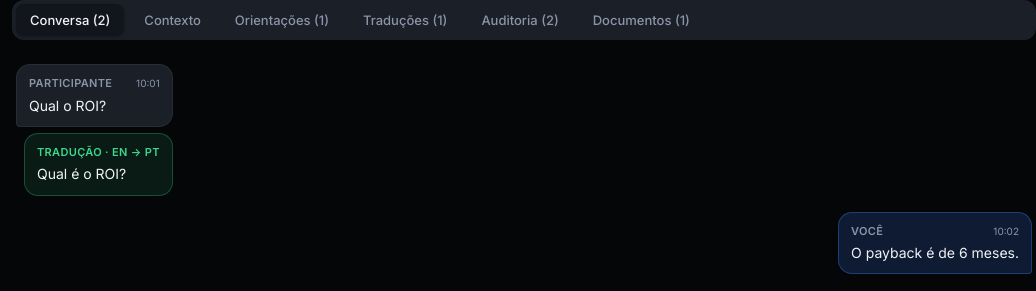
SessionDetailTabs › switches to guidance tab
Click the tab with test id "session-tab-guidance" at (282, 20), box [221,4,343,36]
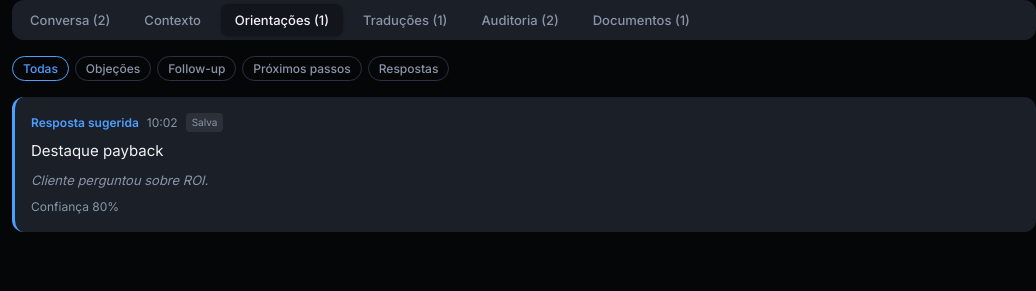
Check: the element with test id "history-guidance-tab" is shown, box [12,56,1035,232]
Check: the text "Destaque payback" is shown, box [31,141,164,160]
Check: the text "Cliente perguntou sobre ROI." is shown, box [31,172,208,188]
